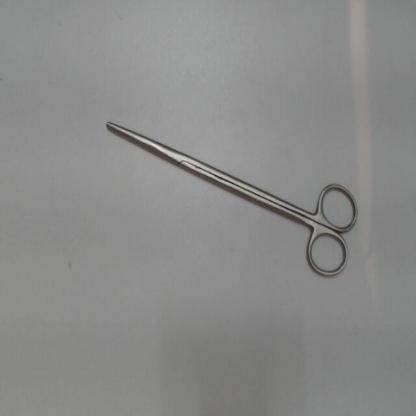9 Metzenbaum Scissors: (102, 115, 366, 285)
